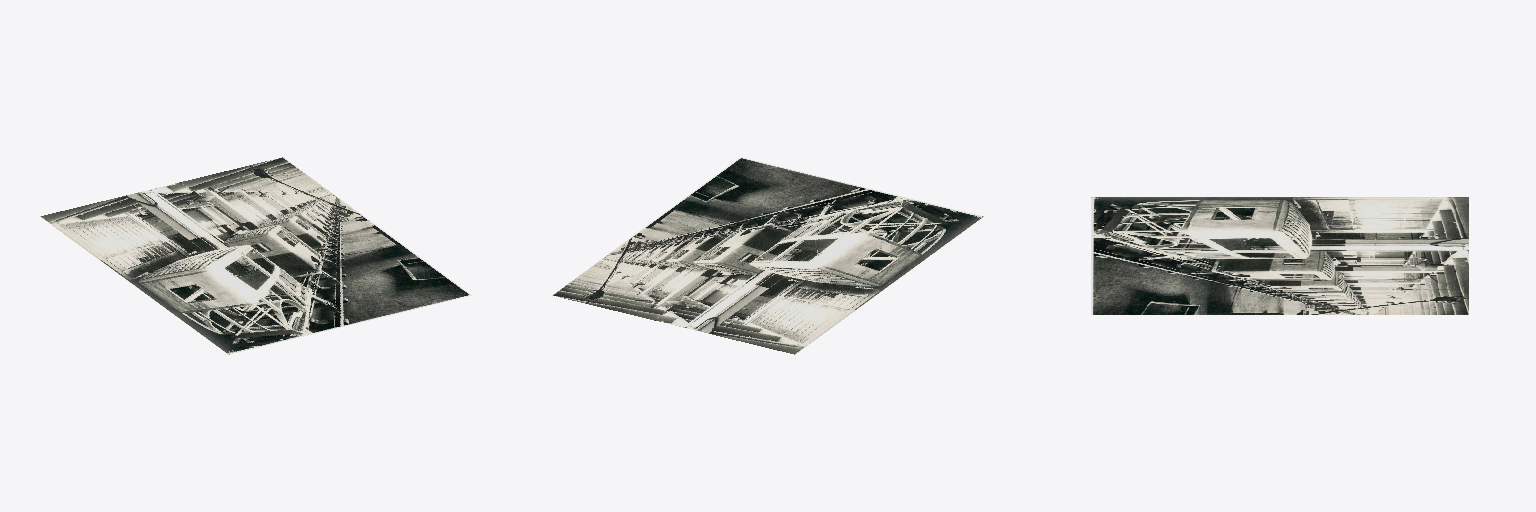
The picture shows the model from 3 angles: view 1: azimuth 30°, elevation 25°; view 2: azimuth 150°, elevation 25°; view 3: azimuth 270°, elevation 25°; orthographic projection.
Visible parts, largest first — view 1: Plane001; view 2: Plane001; view 3: Plane001.
Part boxes in pixels (x1,y1,x2,y2): Plane001: (40, 157, 471, 354); Plane001: (552, 157, 983, 354); Plane001: (1091, 197, 1468, 314).
Bounding box in the file's own units: 3.52 × 0 × 4.72.
Materials: 1 (1 with a texture image).